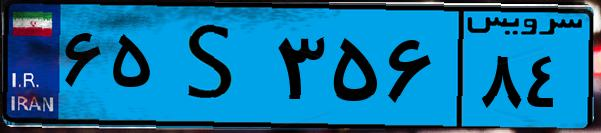3: (270, 28, 330, 110)
4: (525, 38, 570, 115)
5: (330, 28, 385, 110), (110, 28, 158, 98)
6: (385, 28, 445, 110), (57, 26, 110, 100)
8: (475, 38, 525, 113)
S: (158, 12, 270, 120)
